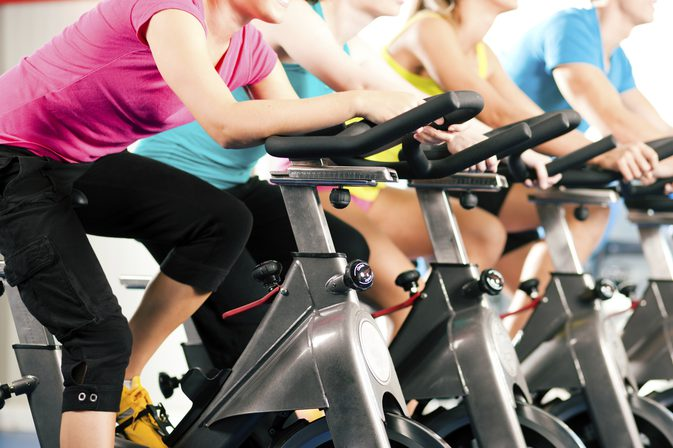gym_bike: (141, 118, 469, 448)
